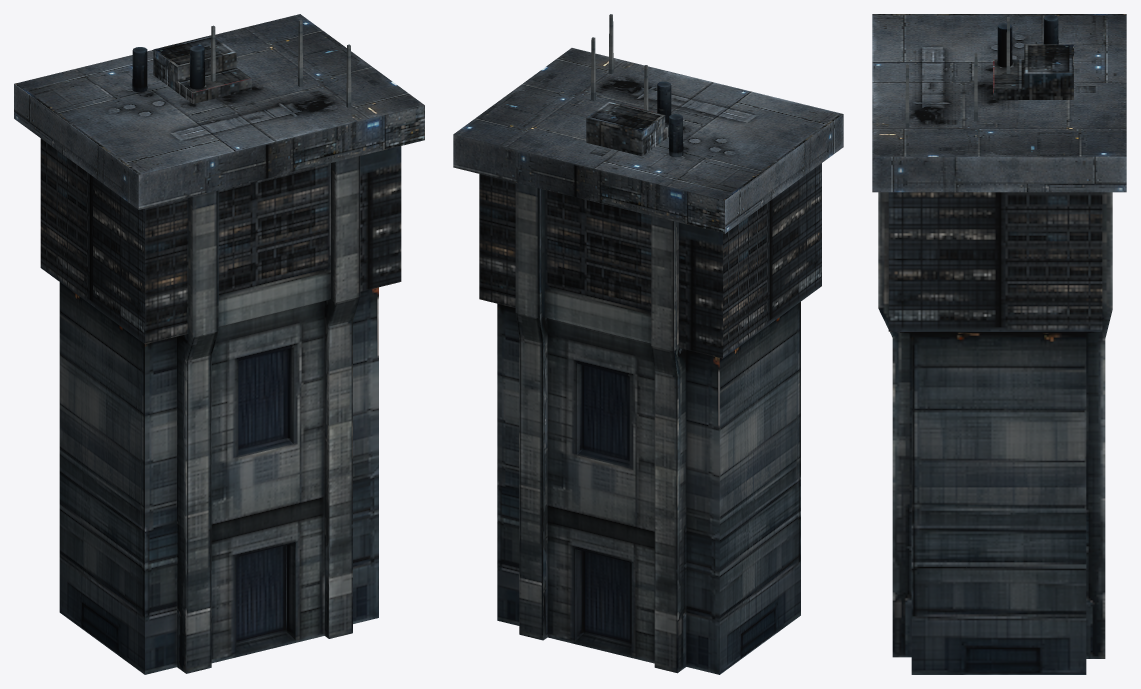
File: CP_Skyscraper_12.fbx
The picture shows the model from 3 angles, left to right: view 1: azimuth 30°, elevation 25°; view 2: azimuth 150°, elevation 25°; view 3: azimuth 270°, elevation 25°; orthographic projection. The views are drawn at different scales.
Visible parts, largest first — view 1: CP_Skyscraper_12; view 2: CP_Skyscraper_12; view 3: CP_Skyscraper_12.
Boxes of the visible parts, x1=… form: CP_Skyscraper_12: x1=14, y1=14, x2=424, y2=674; CP_Skyscraper_12: x1=453, y1=14, x2=843, y2=674; CP_Skyscraper_12: x1=872, y1=14, x2=1126, y2=674.
Size of the model in its own units: 3023 by 5912 by 2280.
